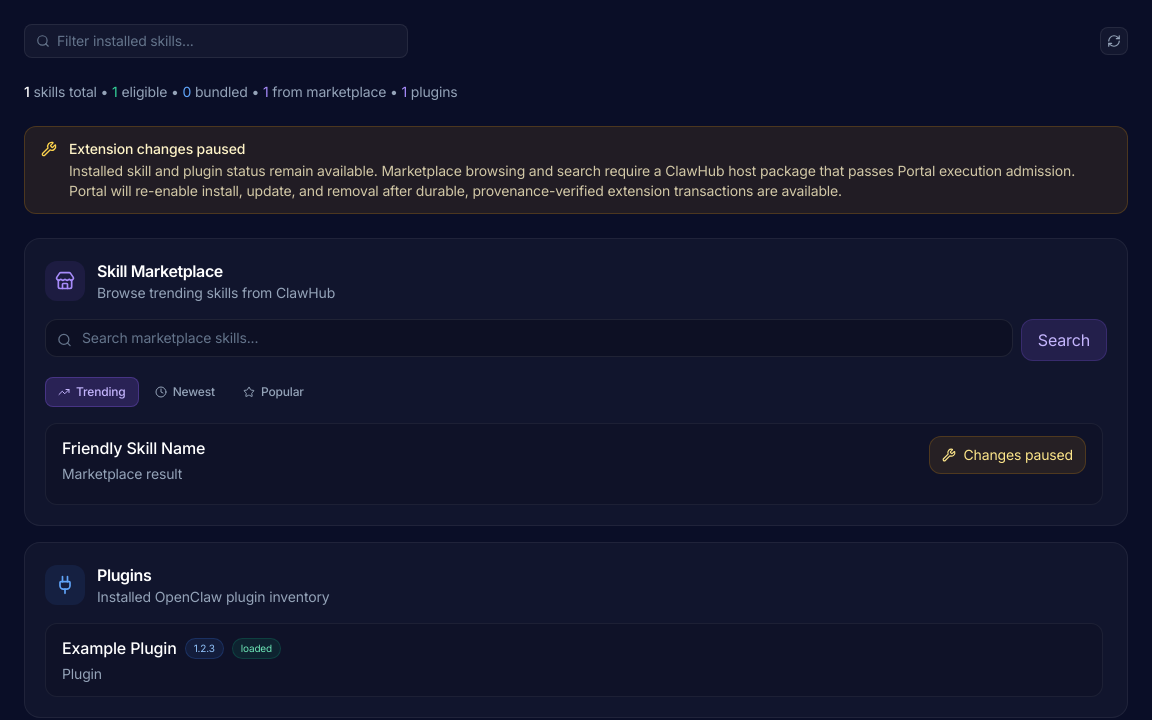
Test: Skills and plugins read-only maintenance boundary › replaces stale search results with the unavailable state when search admission fails
Expected: the text "Friendly Skill Name" is shown, [62, 436, 205, 460]
In the field labelled "Search marketplace skills": (529, 338) [45, 319, 1013, 357], type "blocked"
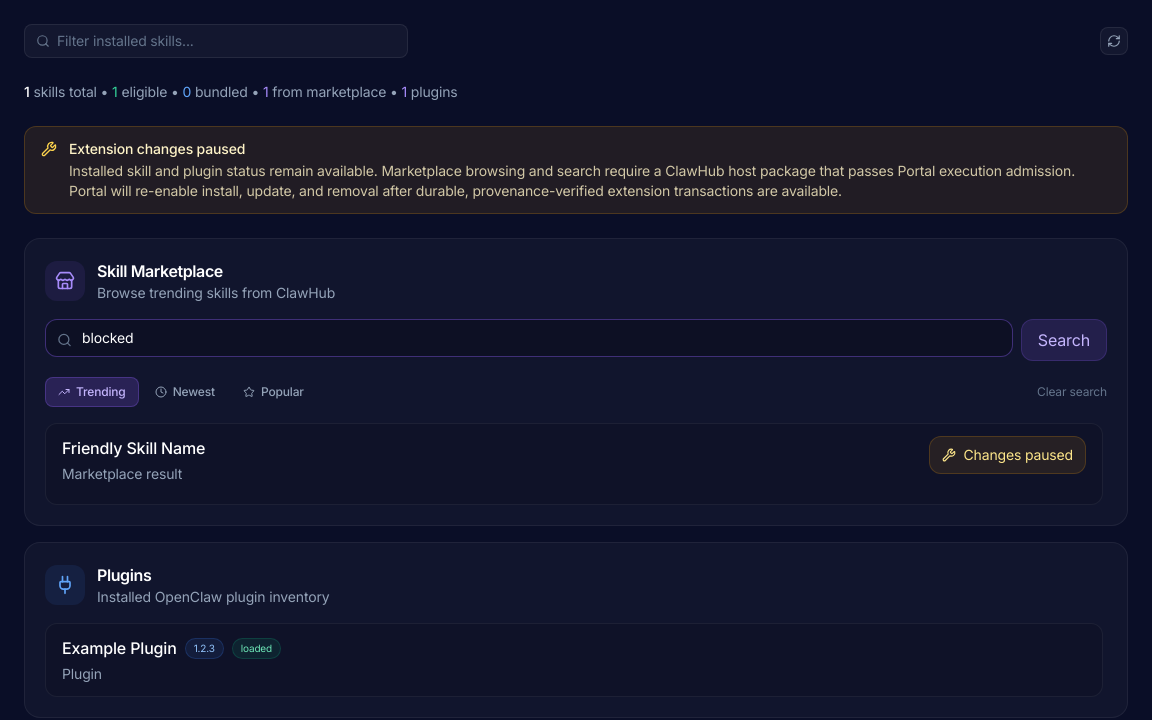
Click the button with aria-label "Search marketplace skills": (1064, 340) [1021, 319, 1107, 361]
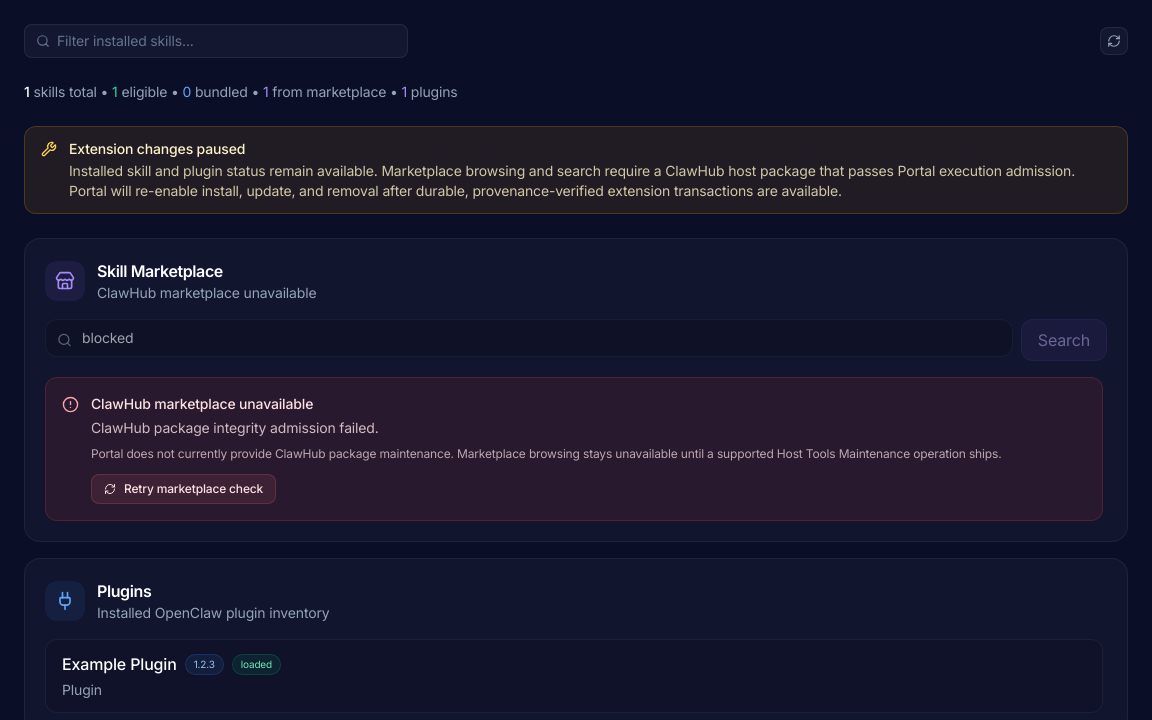
Expected: the message that starts with "ClawHub marketplace unavailable" shows "ClawHub package integrity admission failed.", [91, 419, 379, 436]
Expected: the text "Friendly Skill Name" is gone
Expected: the field named "Search marketplace skills" is disabled, [45, 319, 1013, 357]
